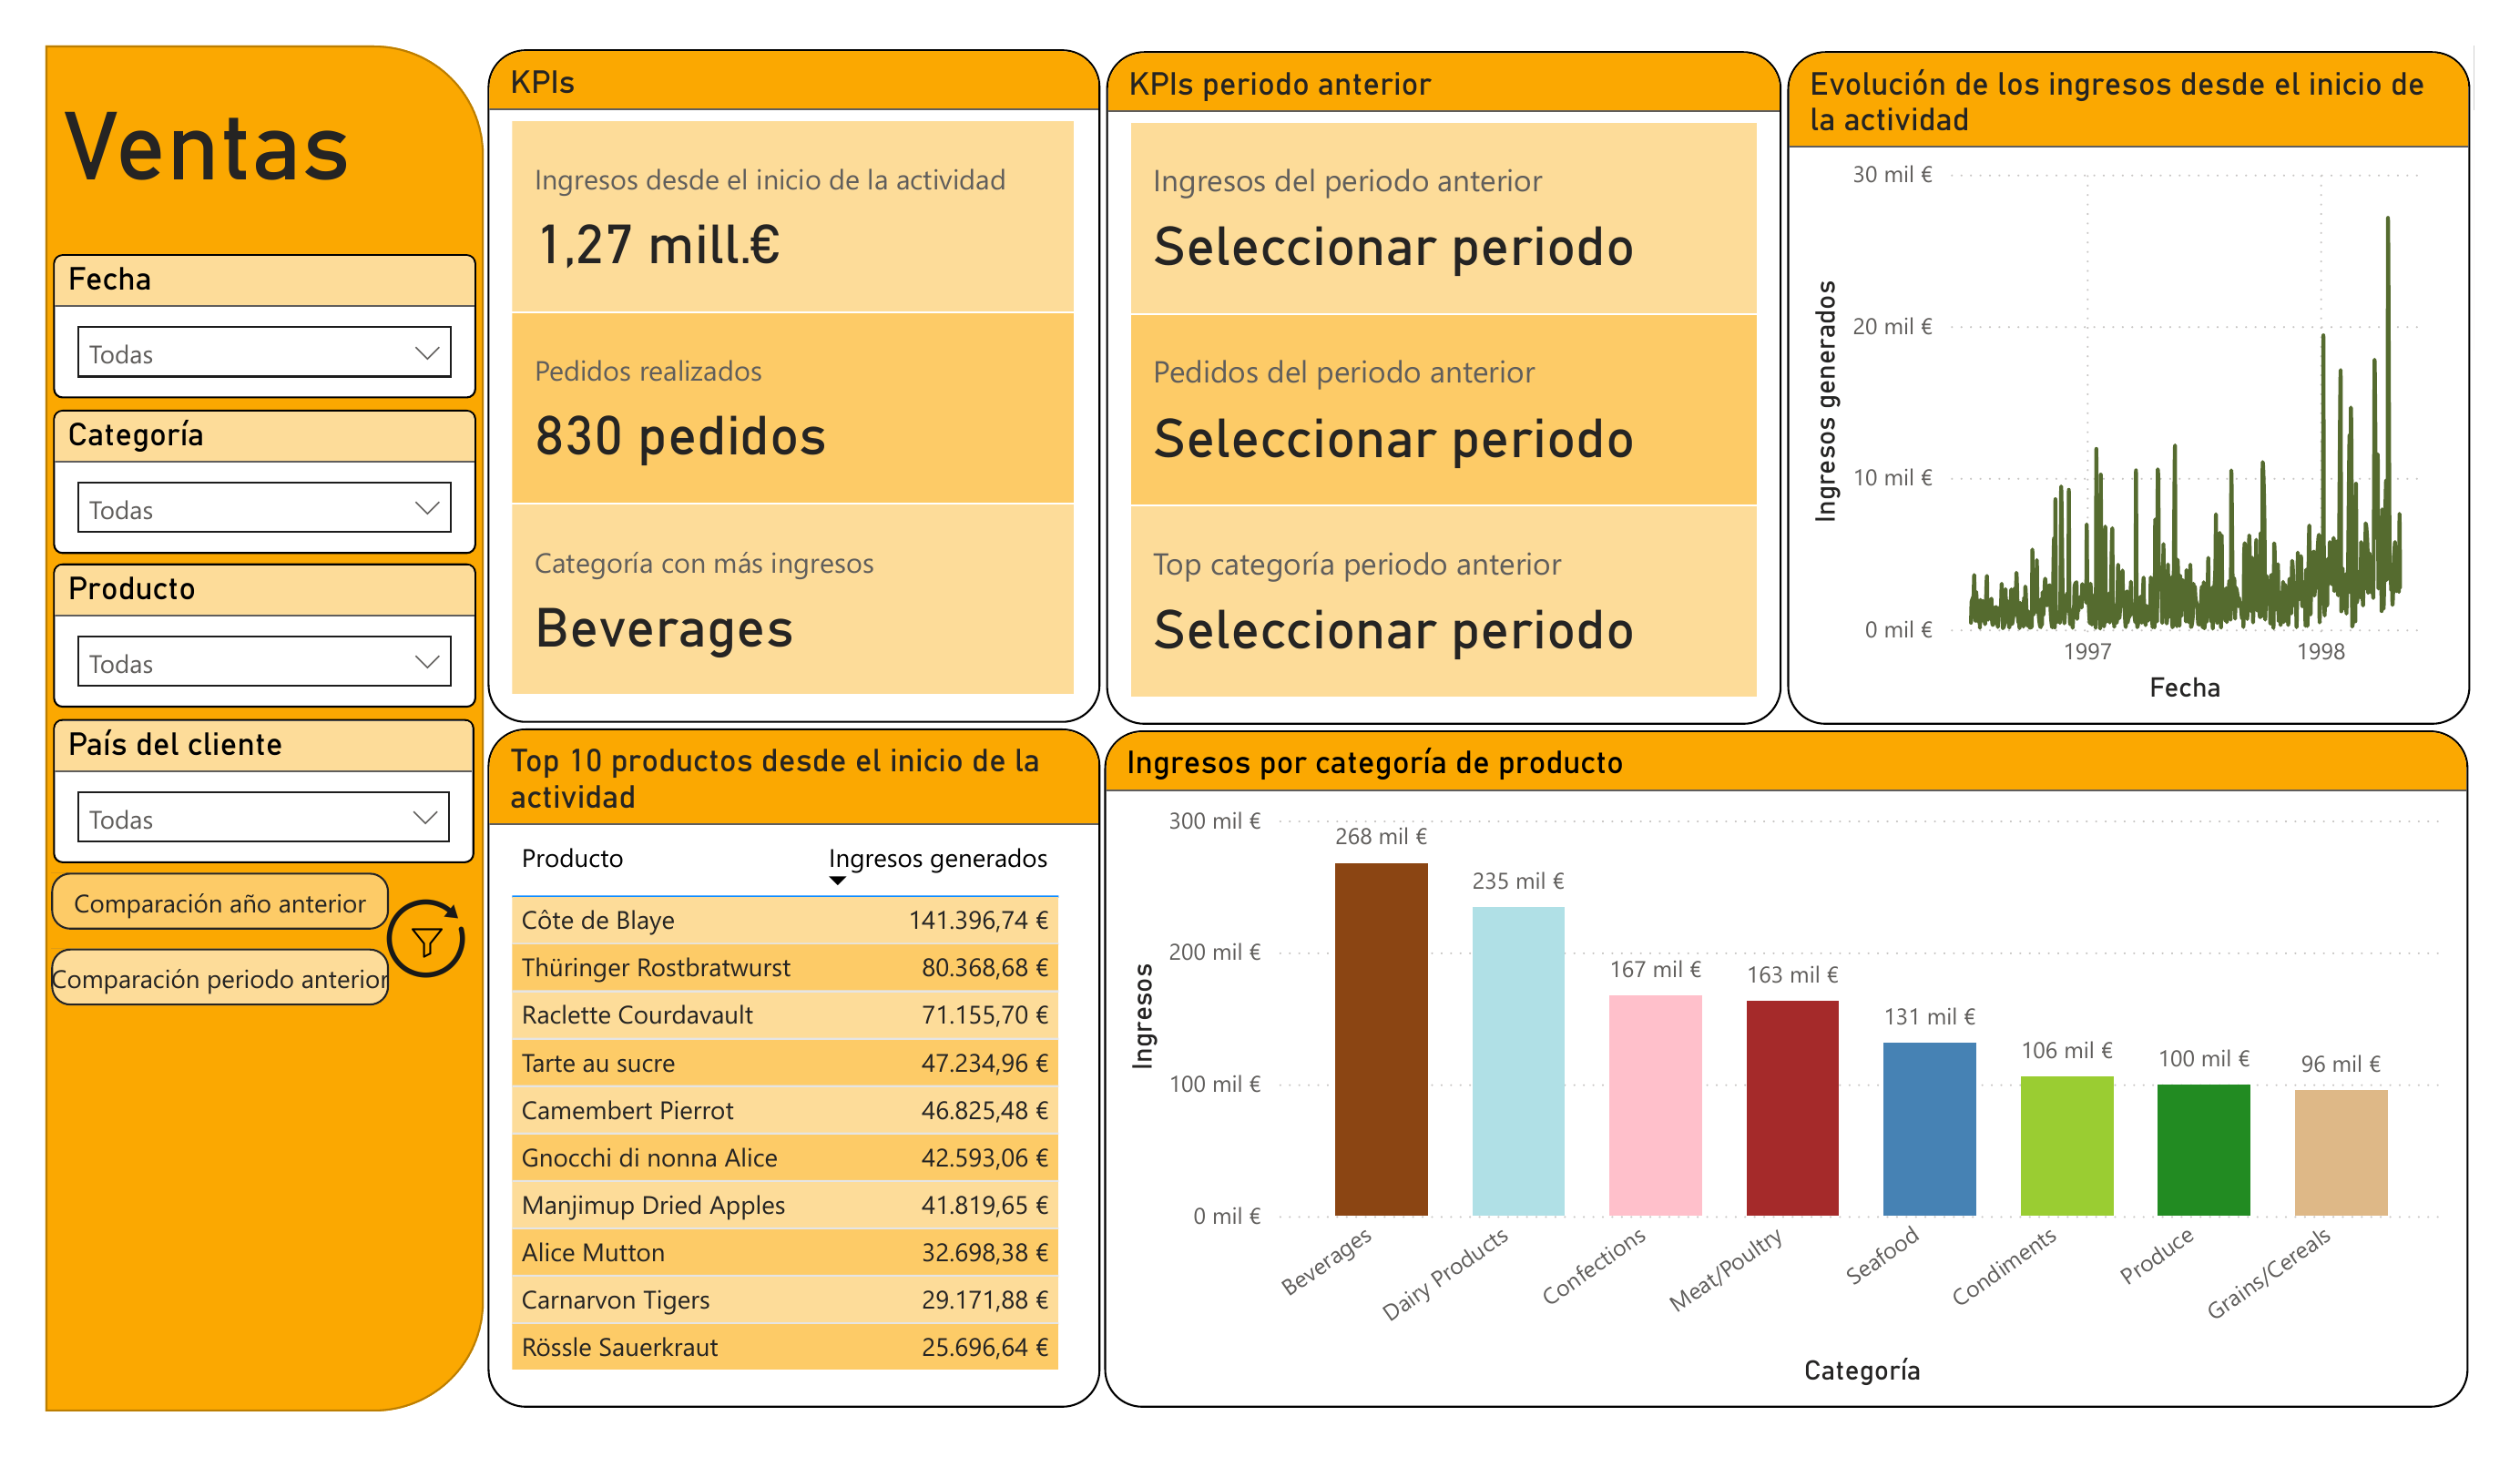

This screenshot's page, from the dashboard's own definition file:
{"tool":"powerbi","page":{"name":"Ventas","canvas":[1280,720],"ordinal":0},"visuals":[{"type":"lineChart","fields":{"Category":["Calendar.Date"],"Y":["Order_Details_Extended.ExtendedPrice"]},"box":[917.5,2.5,360,355],"z":0},{"type":"cardVisual","title":"KPIs","fields":{"Data":["Order_Details_Extended.ExtendedPrice","Medidas Dashboard Ventas.NumeroPedidos","Medidas.CategoriaMasIngresos"]},"box":[233.1,2.5,322.7,354.6],"z":1000},{"type":"clusteredColumnChart","title":"Ingresos por categoría de producto","fields":{"Y":["Order_Details_Extended.ExtendedPrice"],"Category":["Categories.CategoryName"]},"box":[558.3,360.7,719,357.1],"z":2000},{"type":"tableEx","fields":{"Values":["Products.ProductName","Order_Details_Extended.ExtendedPrice"]},"box":[233.1,359.5,322.7,358.3],"z":3000},{"type":"shape","box":[0,0,230.7,720.2],"z":4000},{"type":"slicer","title":"Fecha","fields":{"Values":["Calendar.Año Jerarquía.Año","Calendar.Año Jerarquía.Trimestre","Calendar.Año Jerarquía.Mes","Calendar.Año Jerarquía.Dia Mes y Semana"]},"box":[3.7,109.9,223.3,76.1],"z":5000},{"type":"textbox","box":[3.7,2.5,209.8,101.8],"z":6000},{"type":"slicer","title":"Categoría","fields":{"Values":["Categories.CategoryName"]},"box":[3.8,191.5,223.2,76],"z":7000},{"type":"slicer","title":"Producto","fields":{"Values":["Products.ProductName"]},"box":[3.6,273.1,223.2,76.4],"z":8000},{"type":"slicer","title":"País del cliente","fields":{"Values":["Customers.Country"]},"box":[3.8,355.1,222.5,76.2],"z":9000},{"type":"image","box":[187.5,458.8,26.2,27.5],"z":10000},{"type":"image","box":[171.2,436.9,58.8,66.2],"z":11000},{"type":"cardVisual","title":"KPIs periodo anterior","fields":{"Data":["Medidas Dashboard Ventas.IngresosPeriodoAnterior","Medidas Dashboard Ventas.NumeroPedidosPeriodoAnterior","Medidas Dashboard Ventas.POR MARIANA!"]},"box":[558.8,2.5,356,355],"z":12000},{"type":"bookmarkNavigator","box":[2.7,436.4,178.4,71.4],"z":14000}]}

Visuals, with their boxes on the page's 1280x720 design canvas (x1, y1, x2, y2). These are canvas units, not pixel positions in the 2520x1457 screenshot, which may show the page scaled, cropped or inside an application window:
lineChart - Calendar.Date x Order_Details_Extended.ExtendedPrice: region(918, 2, 1278, 358)
"KPIs" cardVisual: region(233, 2, 556, 357)
"Ingresos por categoría de producto" clusteredColumnChart: region(558, 361, 1277, 718)
tableEx - Products.ProductName x Order_Details_Extended.ExtendedPrice: region(233, 360, 556, 718)
shape: region(0, 0, 231, 720)
"Fecha" slicer: region(4, 110, 227, 186)
textbox: region(4, 2, 214, 104)
"Categoría" slicer: region(4, 192, 227, 268)
"Producto" slicer: region(4, 273, 227, 350)
"País del cliente" slicer: region(4, 355, 226, 431)
image: region(188, 459, 214, 486)
image: region(171, 437, 230, 503)
"KPIs periodo anterior" cardVisual: region(559, 2, 915, 358)
bookmarkNavigator: region(3, 436, 181, 508)
